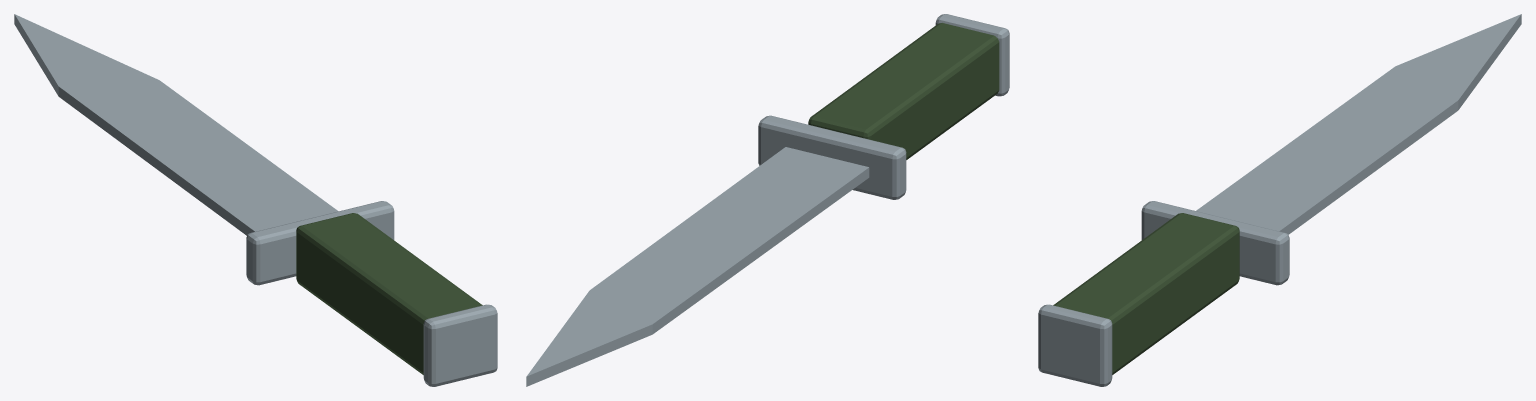
Rendered from knife_forest.glb.
The picture shows the model from 3 angles, left to right: view 1: azimuth 30°, elevation 25°; view 2: azimuth 150°, elevation 25°; view 3: azimuth 330°, elevation 25°; orthographic projection.
Parts seen in each view (by area): view 1: KnifeBlade, KnifeHandle, KnifePommel, KnifeGuard; view 2: KnifeBlade, KnifeHandle, KnifeGuard, KnifePommel; view 3: KnifeBlade, KnifeHandle, KnifePommel, KnifeGuard.
Part boxes in pixels (x1,y1,x2,y2): KnifeBlade: [14, 14, 338, 235]; KnifeHandle: [296, 213, 482, 374]; KnifePommel: [423, 304, 497, 386]; KnifeGuard: [246, 201, 394, 285]; KnifeBlade: [526, 147, 869, 386]; KnifeHandle: [808, 23, 999, 159]; KnifeGuard: [758, 115, 906, 199]; KnifePommel: [935, 14, 1009, 96]; KnifeBlade: [1196, 14, 1521, 234]; KnifeHandle: [1053, 213, 1239, 374]; KnifePommel: [1038, 304, 1112, 386]; KnifeGuard: [1141, 201, 1289, 285].
Bounding box in the file's own units: 0.086 × 0.038 × 0.476.
